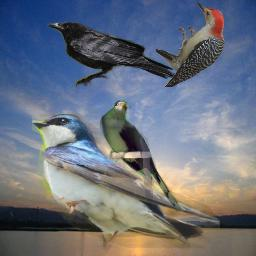Crow: (47, 21, 177, 88)
Cuckoo: (100, 100, 188, 213)
Swallow: (32, 114, 220, 254)
Woodpecker: (156, 1, 227, 87)
